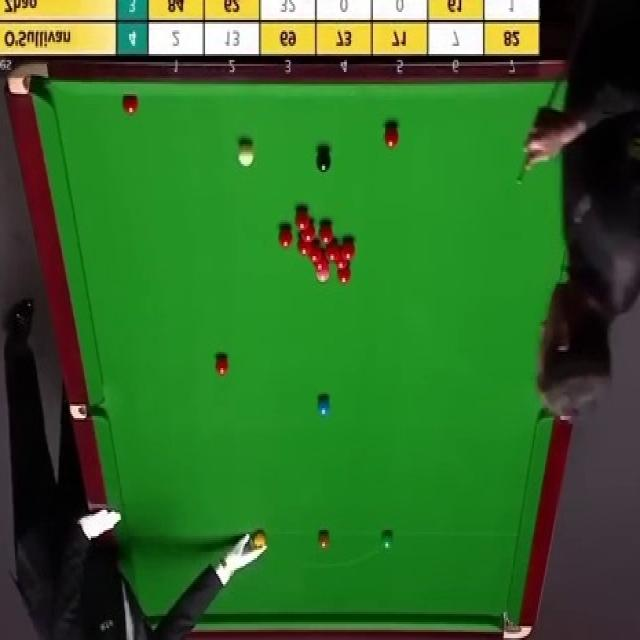pocket: (5, 55, 51, 97), (501, 608, 530, 640), (68, 402, 102, 422)
